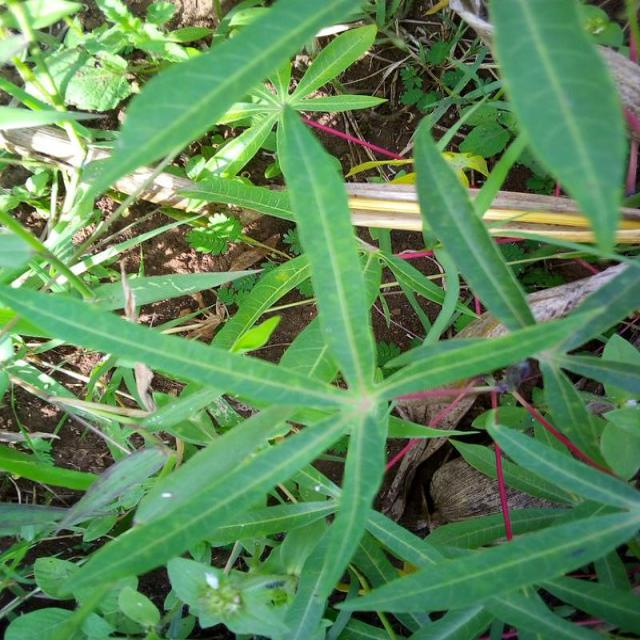cassava leaf: (1, 0, 638, 638), (76, 0, 372, 213), (486, 0, 629, 256), (274, 102, 377, 392)
